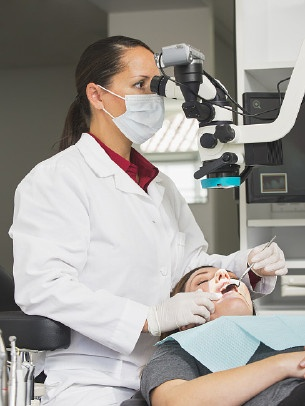Mask: (95, 68, 174, 147)
